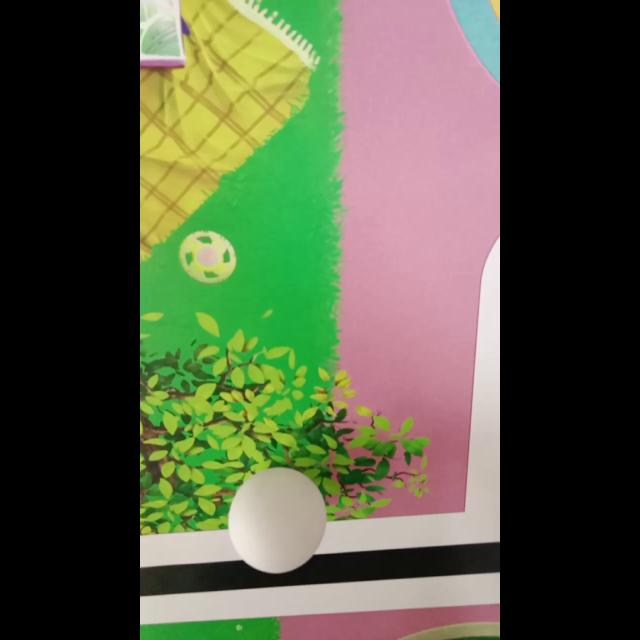white ball: (227, 466, 327, 574)
